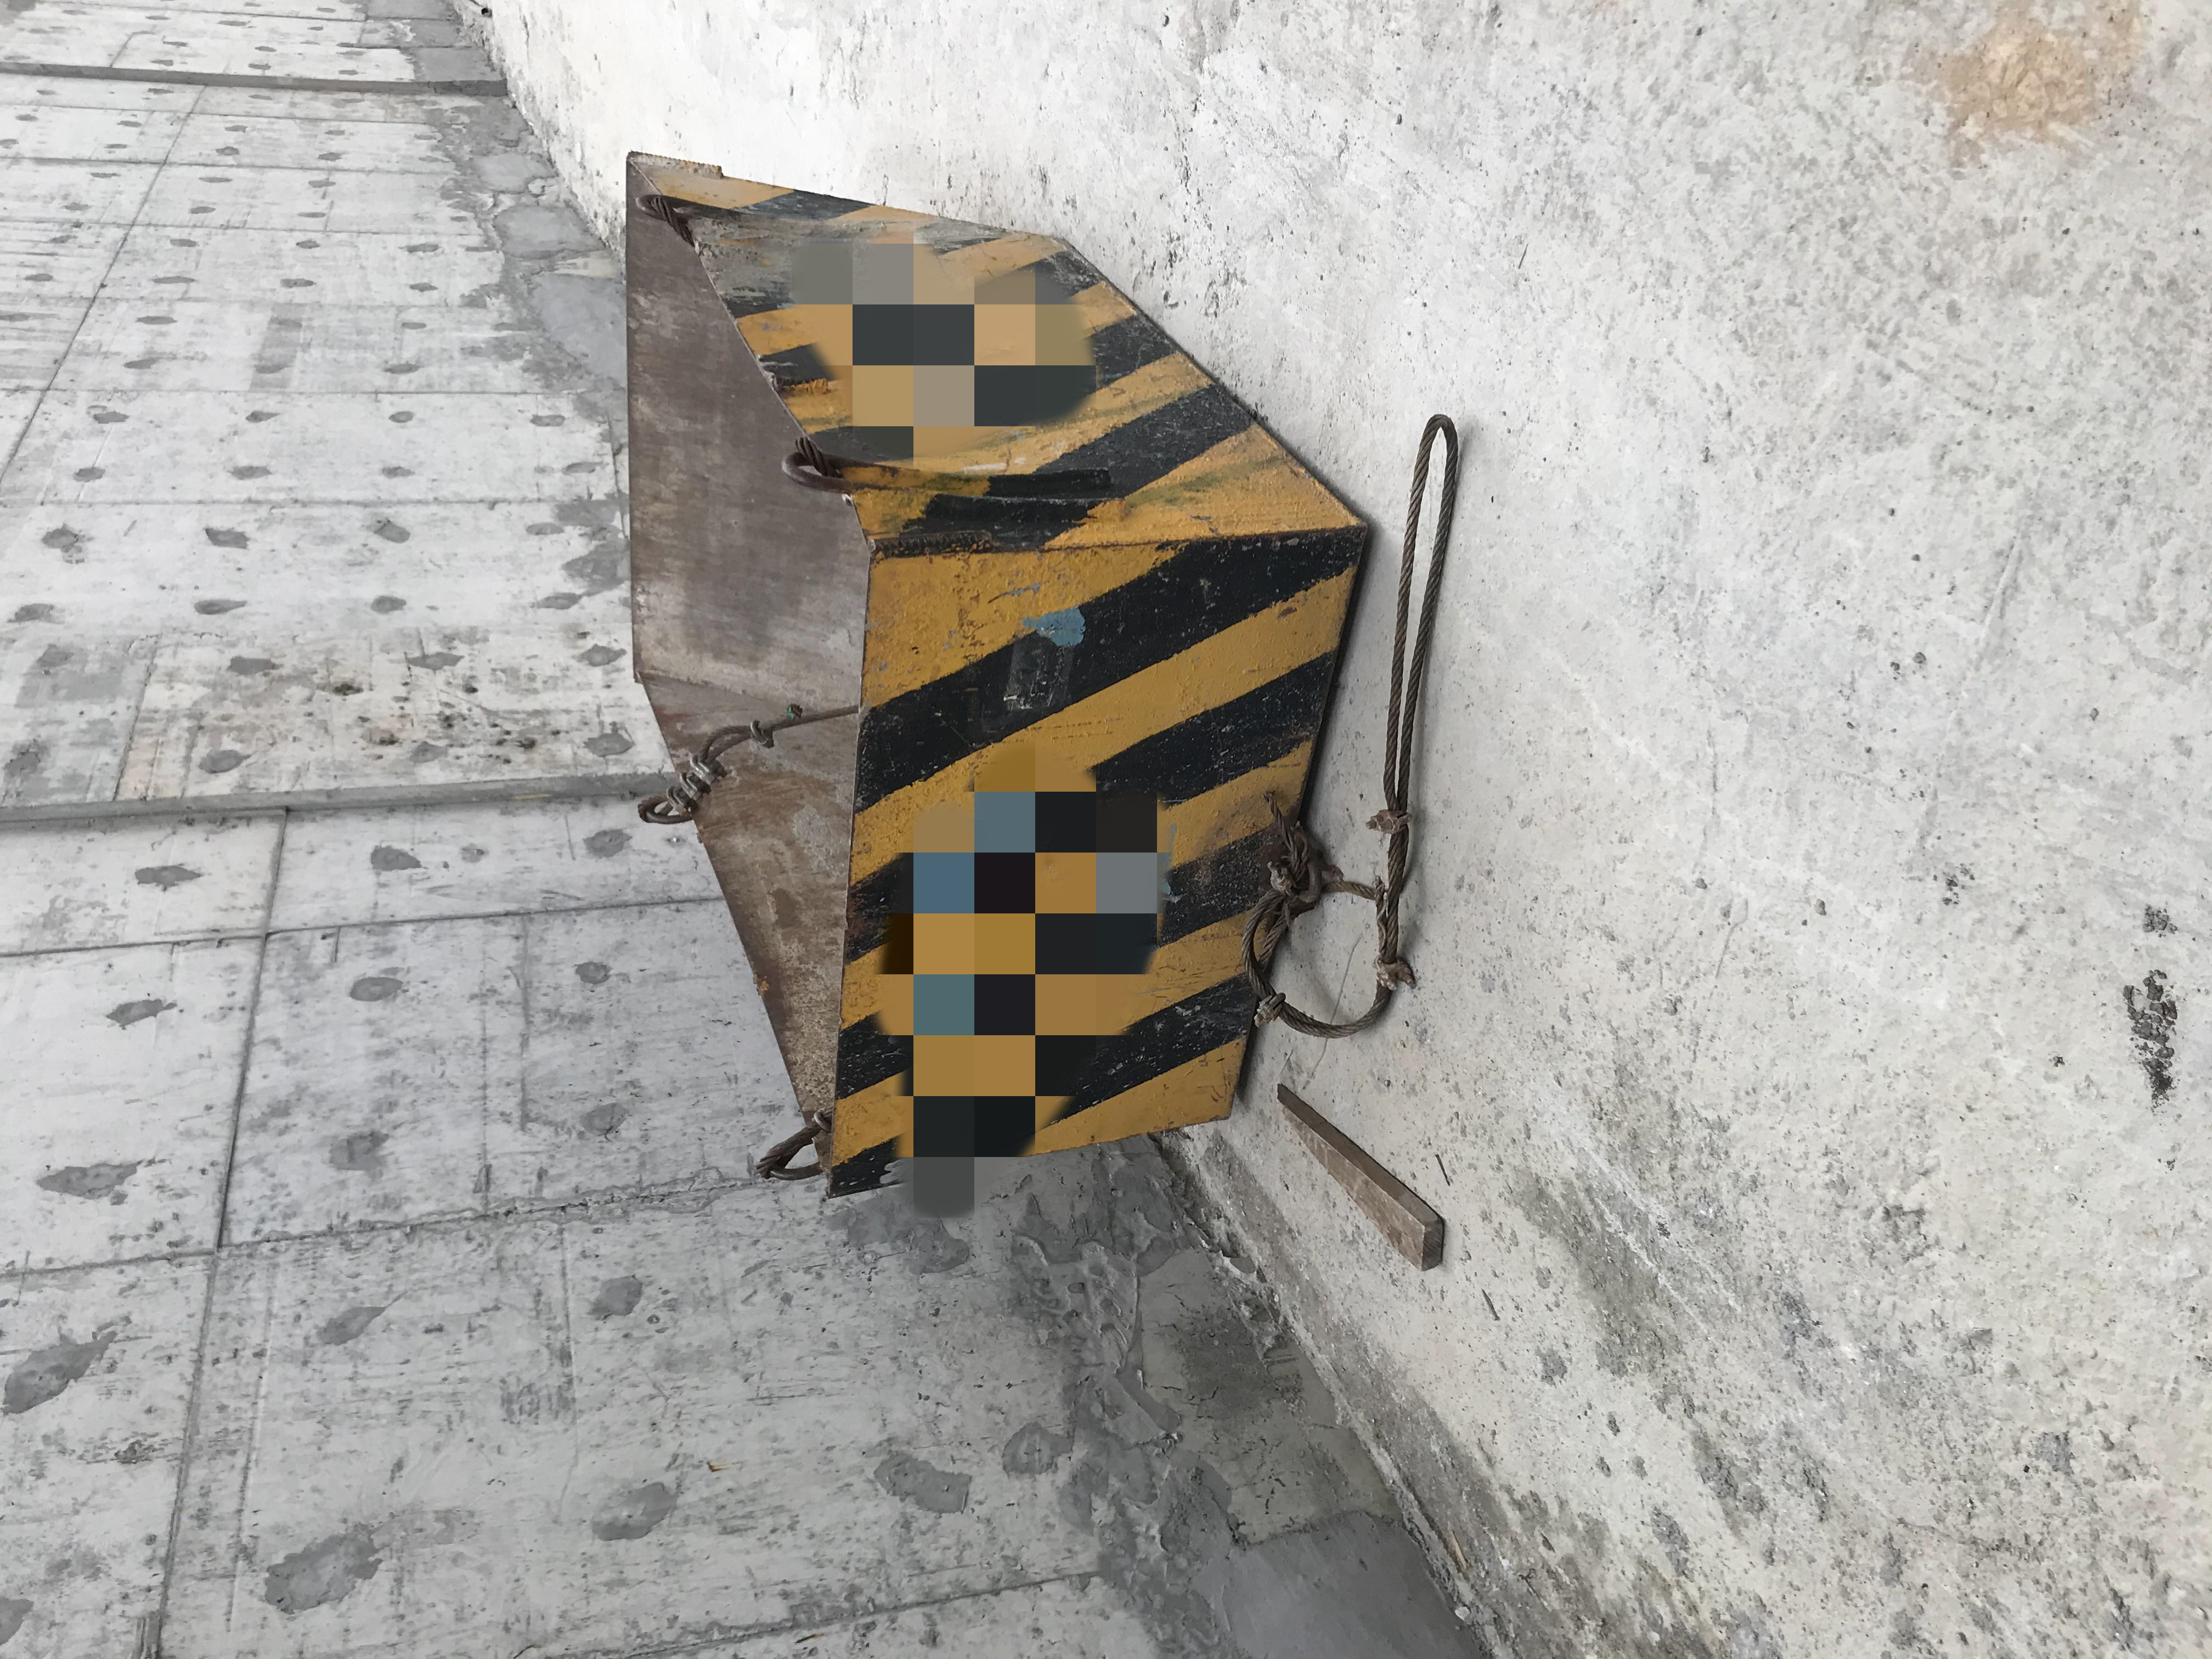hopper: (590, 125, 1390, 1218)
